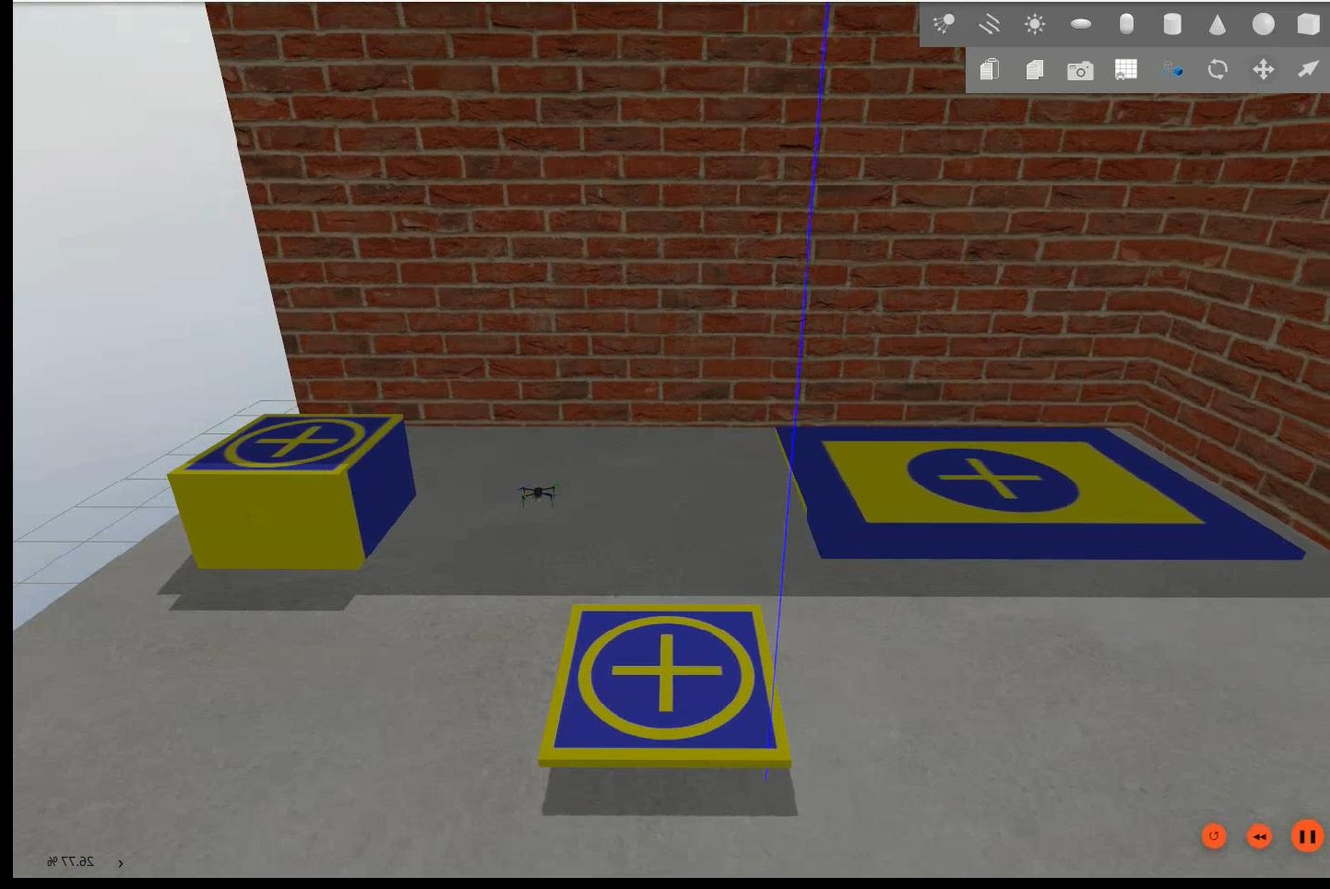large_base: (769, 426, 1302, 562)
small_base: (532, 602, 791, 771), (161, 411, 408, 488)
